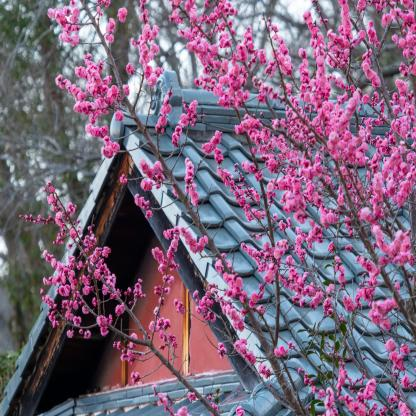Ume: (17, 0, 416, 416)
